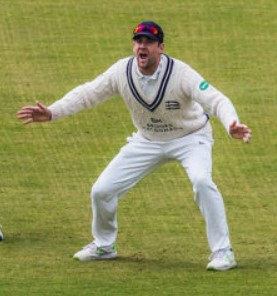LeftAnkle: (205, 245, 234, 276)
LeftElbow: (205, 76, 221, 131)
LeftKnee: (186, 158, 221, 208)
LeftShoulder: (173, 45, 197, 116)
LeftWrist: (225, 113, 254, 150)
RightAnkle: (75, 235, 120, 266)
RightElbow: (78, 65, 101, 114)
RightKnee: (88, 166, 121, 210)
RightShoulder: (103, 39, 130, 103)
RightWrist: (15, 83, 48, 135)
Torso: (126, 87, 180, 131)
